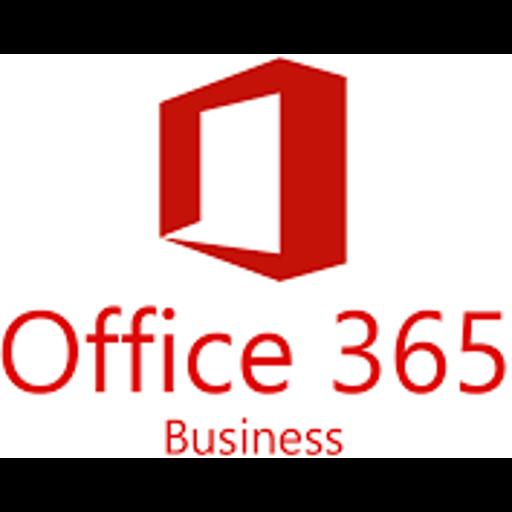Office365: (0, 54, 512, 458)
